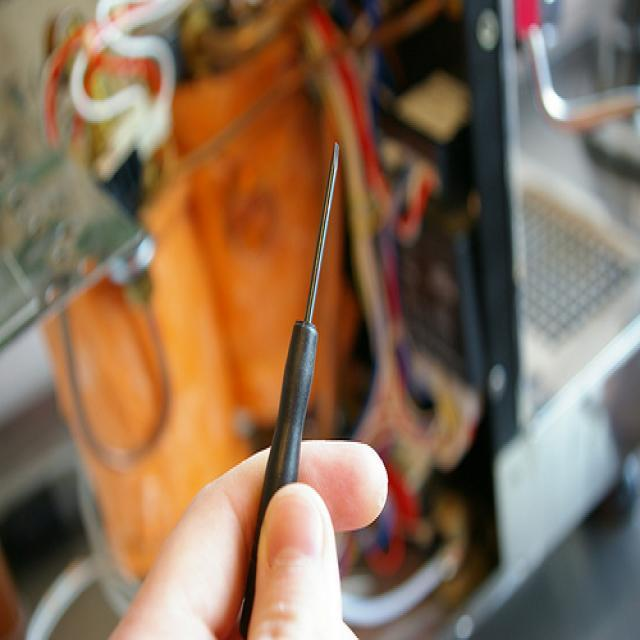screwdriver: (228, 125, 359, 640)
